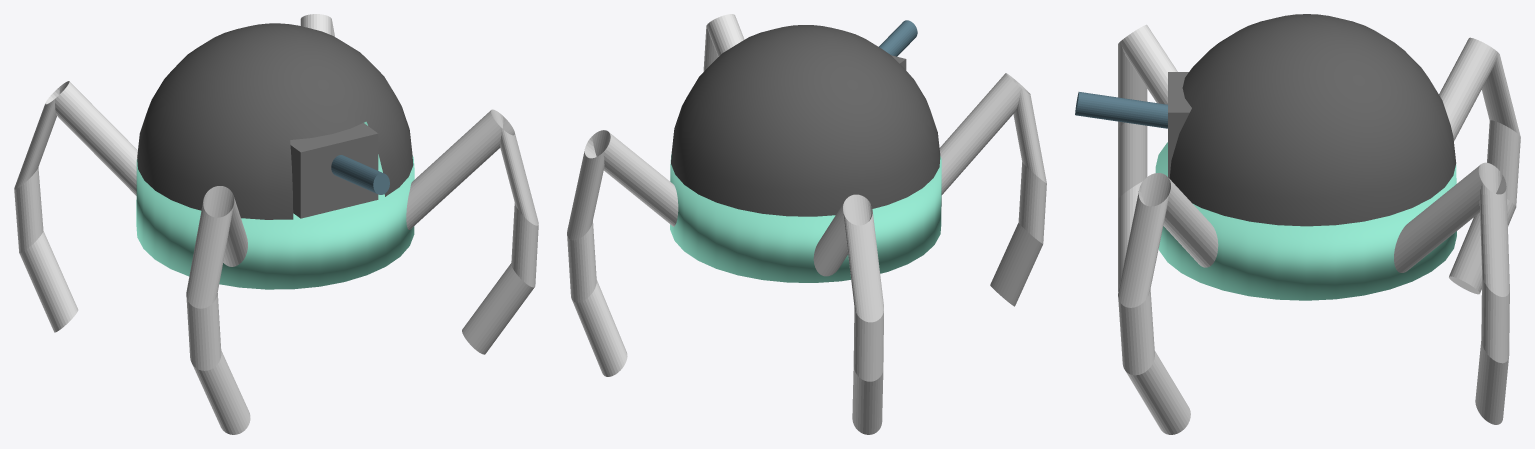
The picture shows the model from 3 angles, left to right: view 1: azimuth 30°, elevation 25°; view 2: azimuth 150°, elevation 25°; view 3: azimuth 270°, elevation 25°; orthographic projection. The views are drawn at different scales.
Parts seen in each view (by area): view 1: 球, 円錐, 円柱.003, 円柱.002, 円柱.001, 立方体.002, 円柱, 円柱.004; view 2: 球, 円錐, 円柱.004, 円柱.001, 円柱.002, 円柱.003, 円柱; view 3: 球, 円錐, 円柱.003, 円柱.004, 円柱.002, 円柱.001, 円柱, 立方体.002.
Part boxes in pixels (bbox=[...]): 球: bbox=[137, 23, 413, 219]; 円錐: bbox=[136, 121, 414, 289]; 円柱.003: bbox=[406, 109, 538, 354]; 円柱.002: bbox=[14, 81, 137, 332]; 円柱.001: bbox=[186, 186, 250, 434]; 立方体.002: bbox=[290, 123, 378, 218]; 円柱: bbox=[331, 155, 389, 194]; 円柱.004: bbox=[300, 14, 334, 36]; 球: bbox=[671, 25, 940, 216]; 円錐: bbox=[670, 154, 941, 282]; 円柱.004: bbox=[567, 130, 678, 376]; 円柱.001: bbox=[939, 73, 1046, 306]; 円柱.002: bbox=[813, 194, 883, 434]; 円柱.003: bbox=[703, 14, 744, 71]; 円柱: bbox=[879, 20, 917, 56]; 球: bbox=[1169, 14, 1456, 226]; 円錐: bbox=[1155, 142, 1456, 300]; 円柱.003: bbox=[1118, 173, 1218, 434]; 円柱.004: bbox=[1394, 162, 1509, 424]; 円柱.002: bbox=[1439, 37, 1520, 294]; 円柱.001: bbox=[1118, 24, 1177, 291]; 円柱: bbox=[1075, 92, 1167, 128]; 立方体.002: bbox=[1168, 72, 1191, 178].
Bounding box in the file's own units: 462 × 396 × 469.
